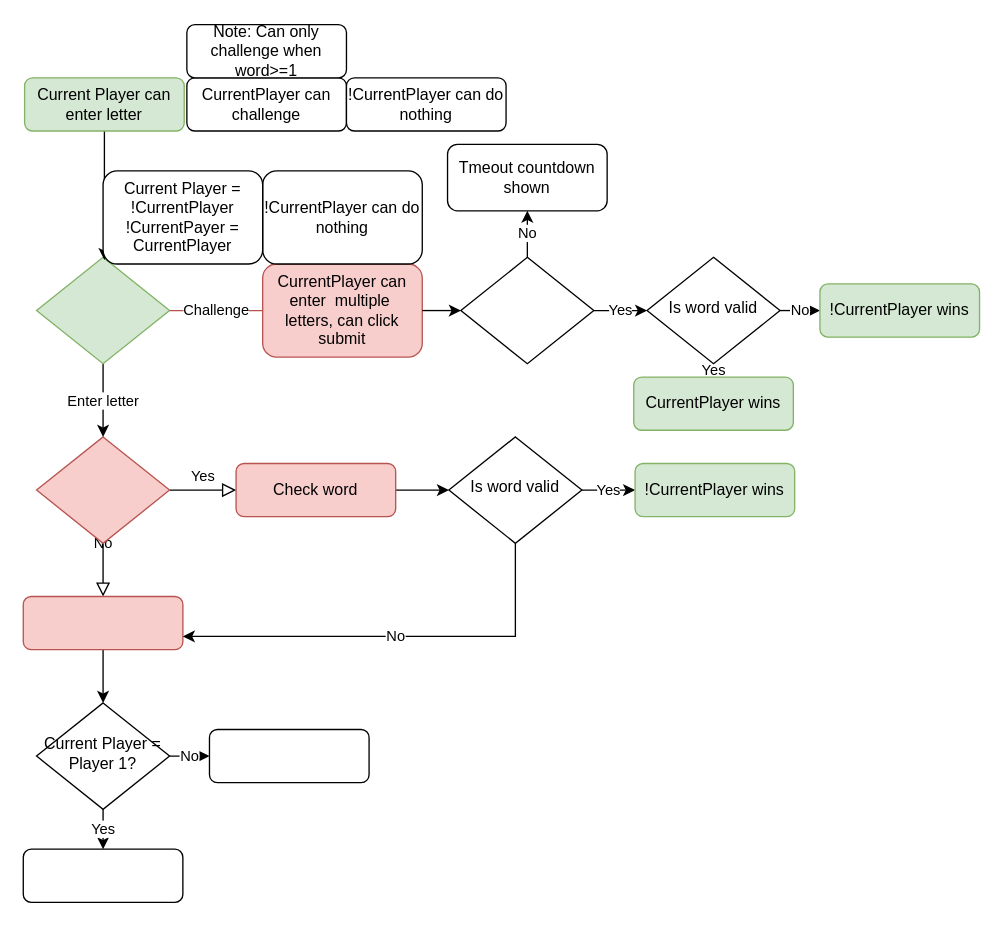
Some shapes in this 1003 by 926 pixel diagram are drawn without their labels. The shapes that lost their labels are listed below. From the top down, each one's box as (x1, y1, x2, y2) in pixels, then its label:
(35, 256, 170, 364): Challenge or Enter Letter
(460, 256, 594, 364): CurrentPlayer clicks submit
(35, 436, 170, 543): Is word length >= 5
(22, 595, 183, 650): Determine Turn
(208, 728, 369, 783): Current Player = Player 1
(22, 848, 183, 902): Current Player = Player 2
